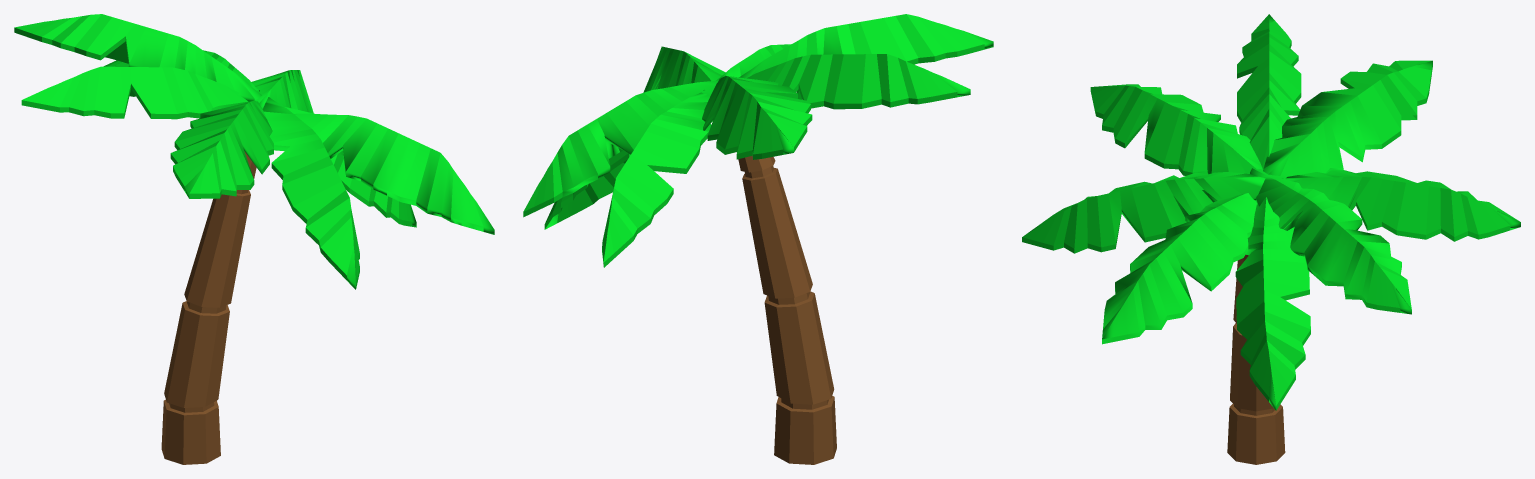
Rendered from PalmTree.fbx.
3 views of the same model, side by side, from view 1: azimuth 30°, elevation 25°; view 2: azimuth 150°, elevation 25°; view 3: azimuth 270°, elevation 25° (orthographic). The views are drawn at different scales.
Visible parts, largest first — view 1: Plane.002, Plane.008, Plane.001, Plane.004, Plane.007, Plane.006, Plane.003, Plane.017; view 2: Plane.002, Plane.004, Plane.005, Plane.017, Plane.006, Plane.007, Plane.008, Plane.003, Plane.001; view 3: Plane.006, Plane.008, Plane.003, Plane.017, Plane.001, Plane.007, Plane.005, Plane.004, Plane.002.
Boxes of the visible parts, box(x1,y1,x2,y2) form: Plane.002: box(161, 151, 256, 464); Plane.008: box(294, 113, 494, 234); Plane.001: box(259, 90, 359, 289); Plane.004: box(21, 66, 248, 119); Plane.007: box(170, 100, 273, 198); Plane.006: box(14, 14, 261, 101); Plane.003: box(285, 107, 416, 227); Plane.017: box(251, 70, 313, 113); Plane.002: box(738, 155, 836, 464); Plane.004: box(747, 54, 970, 109); Plane.005: box(602, 92, 712, 267); Plane.017: box(523, 80, 718, 217); Plane.006: box(702, 75, 812, 159); Plane.007: box(739, 14, 993, 78); Plane.008: box(643, 46, 725, 92); Plane.003: box(544, 150, 630, 229); Plane.001: box(703, 44, 801, 99); Plane.006: box(1263, 60, 1432, 176); Plane.008: box(1102, 193, 1256, 344); Plane.003: box(1235, 197, 1310, 410); Plane.017: box(1250, 168, 1411, 314); Plane.001: box(1022, 172, 1283, 253); Plane.007: box(1090, 84, 1262, 175); Plane.005: box(1285, 170, 1520, 241); Plane.004: box(1237, 14, 1301, 168); Plane.002: box(1227, 254, 1285, 464).
Bounding box in the file's own units: 1071 × 1029 × 1233.
